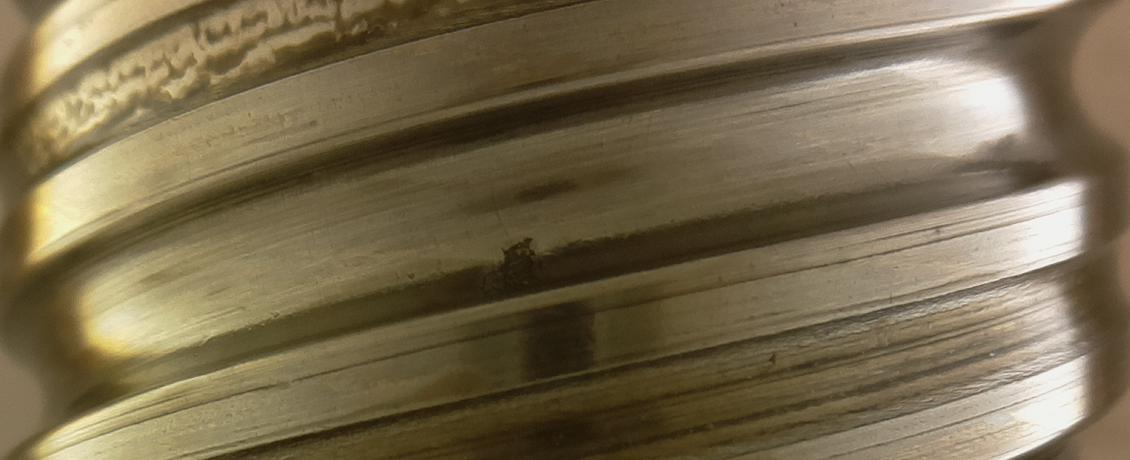pitting: (481, 237, 544, 296)
